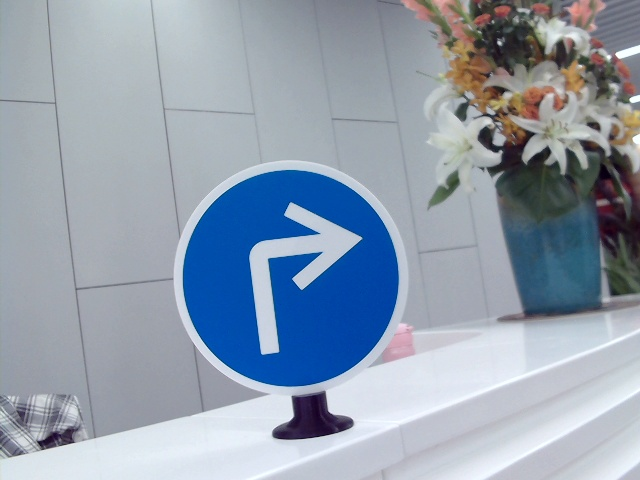turn_right: (243, 197, 361, 356)
